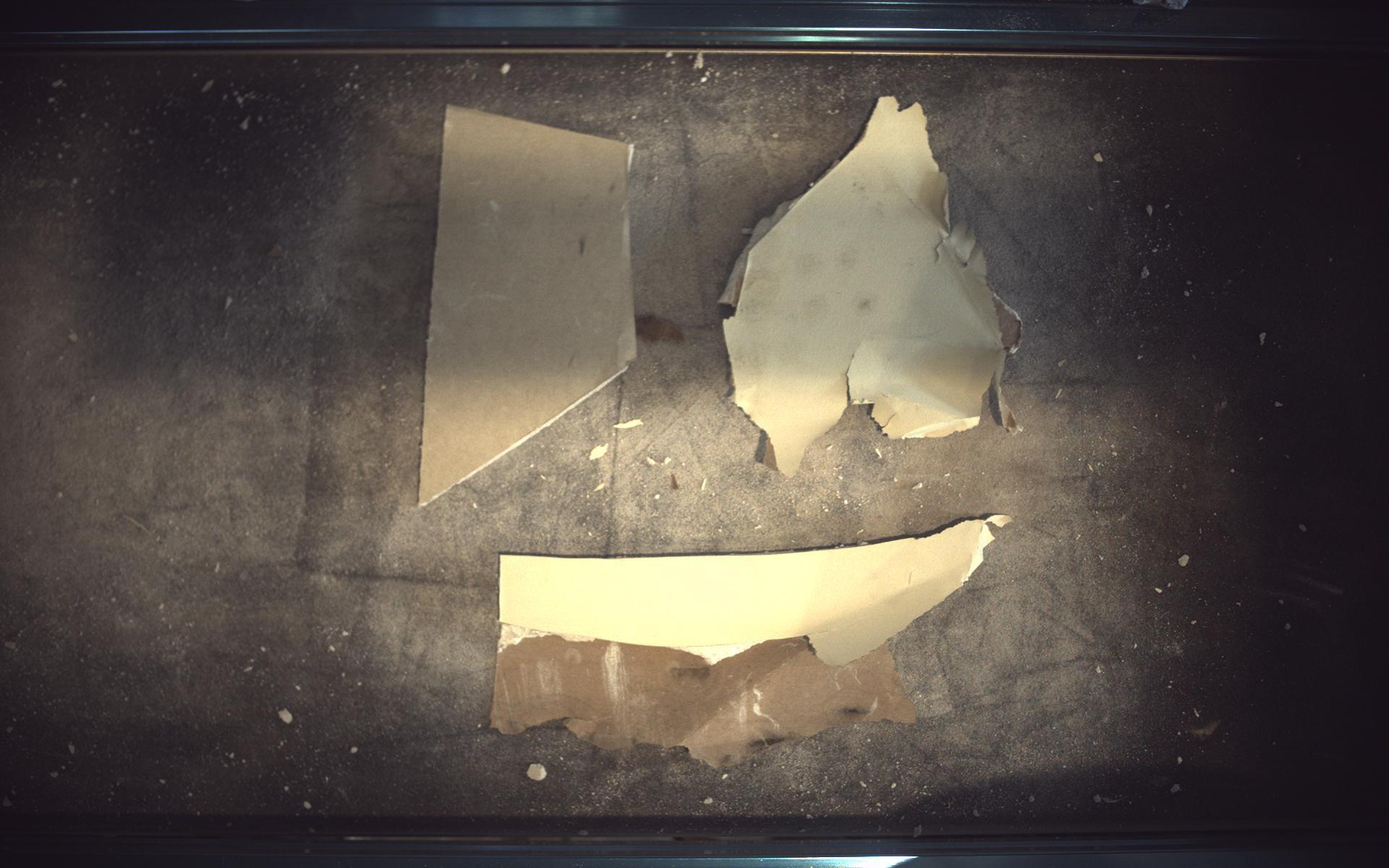gypsum_board: (490, 515, 1012, 769), (721, 95, 1022, 475), (419, 106, 637, 505)
